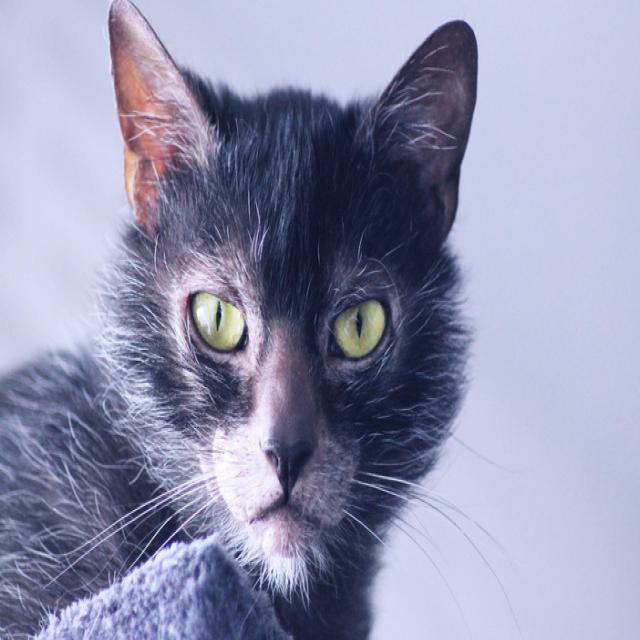Lykoi: (0, 0, 483, 640)
